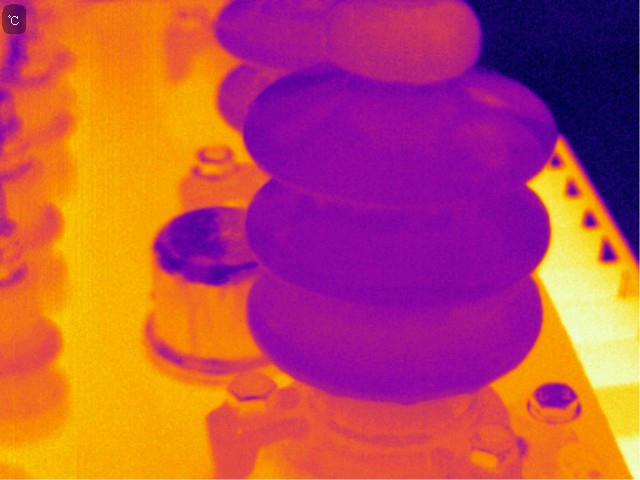Oil: (323, 1, 480, 81), (351, 95, 453, 140), (462, 117, 532, 167), (470, 87, 507, 110)
